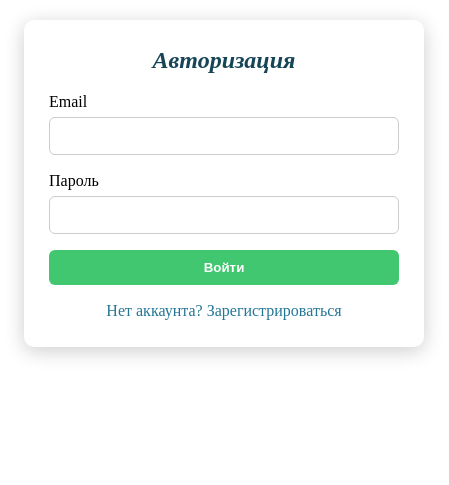
Test case: AuthForm › показывает ошибку при несовпадении паролей при регистрации
The width and height of the screenshot is (449, 485).
Click the text "Нет аккаунта? Зарегистрироваться": (224, 311) top-left (106, 301), bottom-right (342, 322)
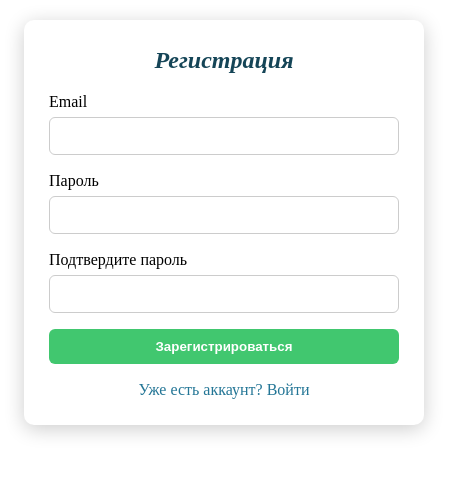
In the field labelled "Email": (224, 136) top-left (49, 117), bottom-right (399, 155), type "test@example.com"
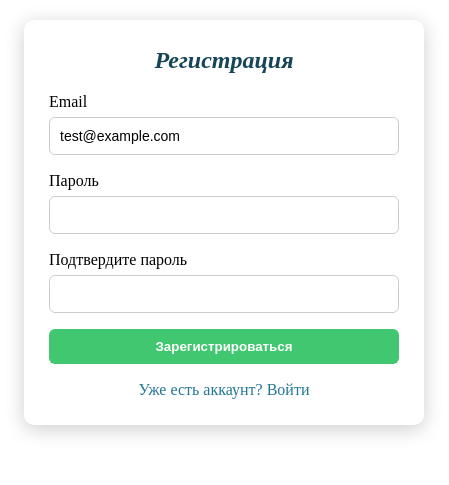
In the password field labelled "Пароль": (224, 215) top-left (49, 196), bottom-right (399, 234), type "password123"
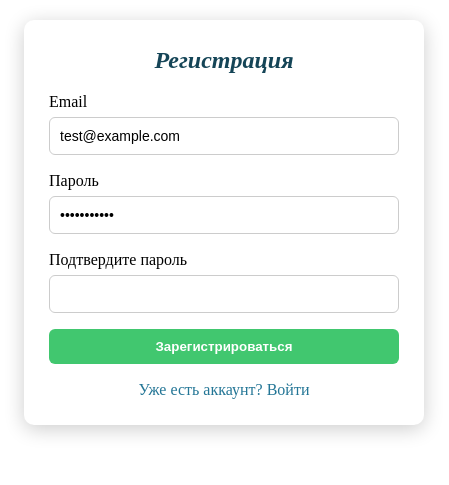
In the password field labelled "Подтвердите пароль": (224, 294) top-left (49, 275), bottom-right (399, 313), type "password321"
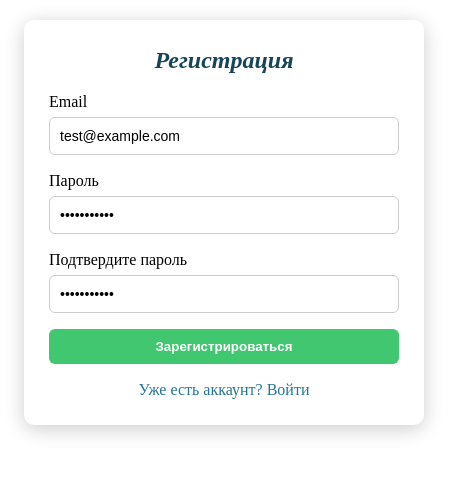
Click the button "Зарегистрироваться": (224, 346) top-left (49, 329), bottom-right (399, 364)
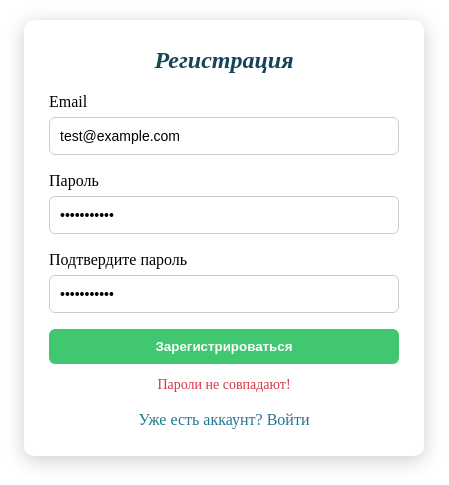
Expected: the text "Пароли не совпадают!" is shown, top-left (157, 377), bottom-right (291, 392)
